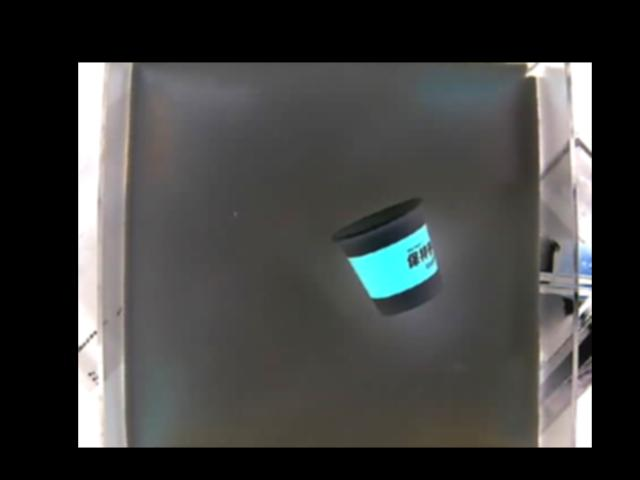Cup: (336, 194, 443, 319)
